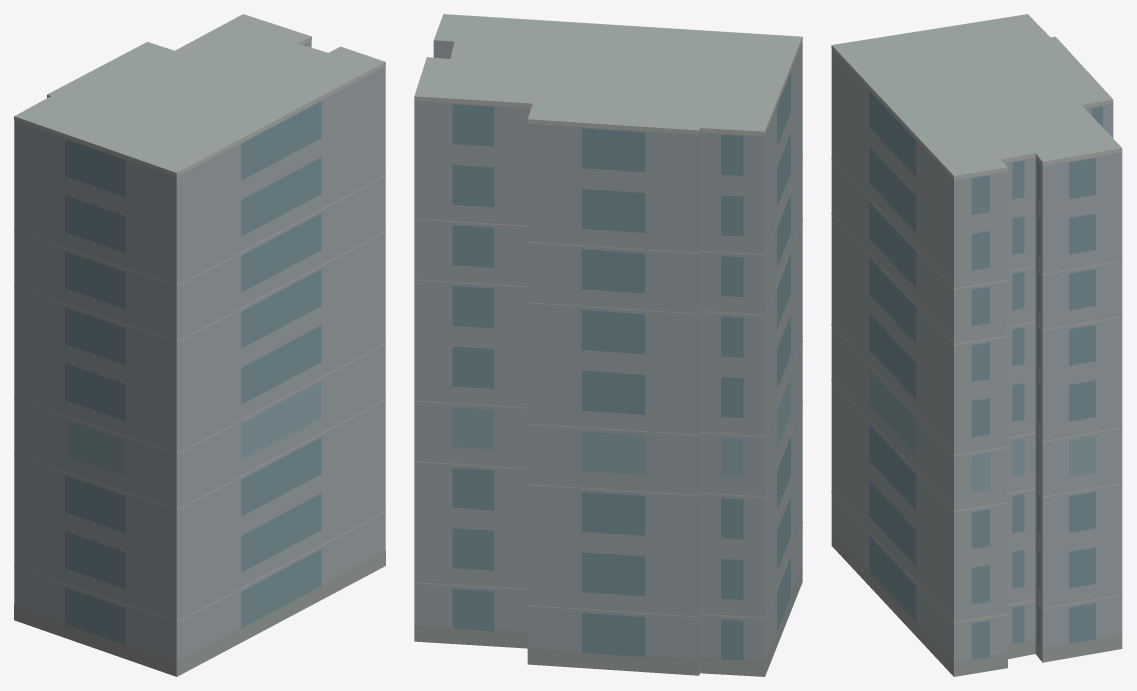
The model's file is survey-upis-32968886.glb.
3 views of the same model, side by side, from view 1: azimuth 30°, elevation 25°; view 2: azimuth 150°, elevation 25°; view 3: azimuth 270°, elevation 25° (orthographic). The views are drawn at different scales.
Visible parts, largest first — view 1: survey-upis-32968886.tmp; view 2: survey-upis-32968886.tmp; view 3: survey-upis-32968886.tmp.
Part boxes in pixels (x1,y1,x2,y2): survey-upis-32968886.tmp: (14,14,385,676); survey-upis-32968886.tmp: (414,14,802,676); survey-upis-32968886.tmp: (831,14,1122,676).
Size of the model in its own units: 20.81 by 29.93 by 15.77.
